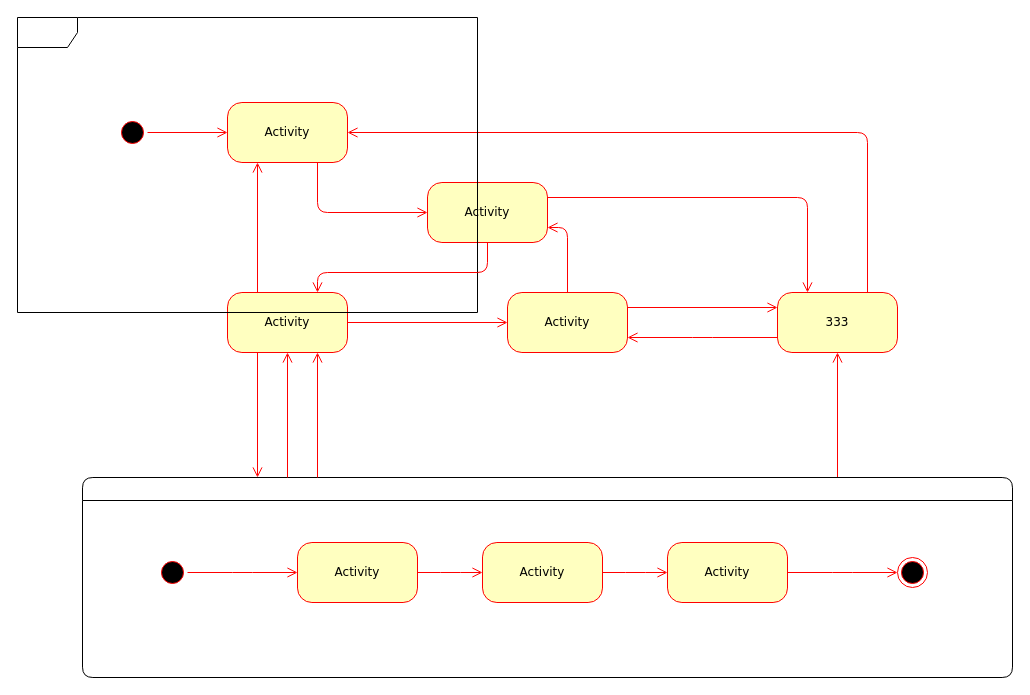
The diagram is 1030 pixels wide and 695 high, and some of its shapes have lost their labels. Here are the shapes that lost their labels. From the top down, the box of each, then its label:
(16, 16, 478, 312): frame
(82, 476, 1012, 678): Container
